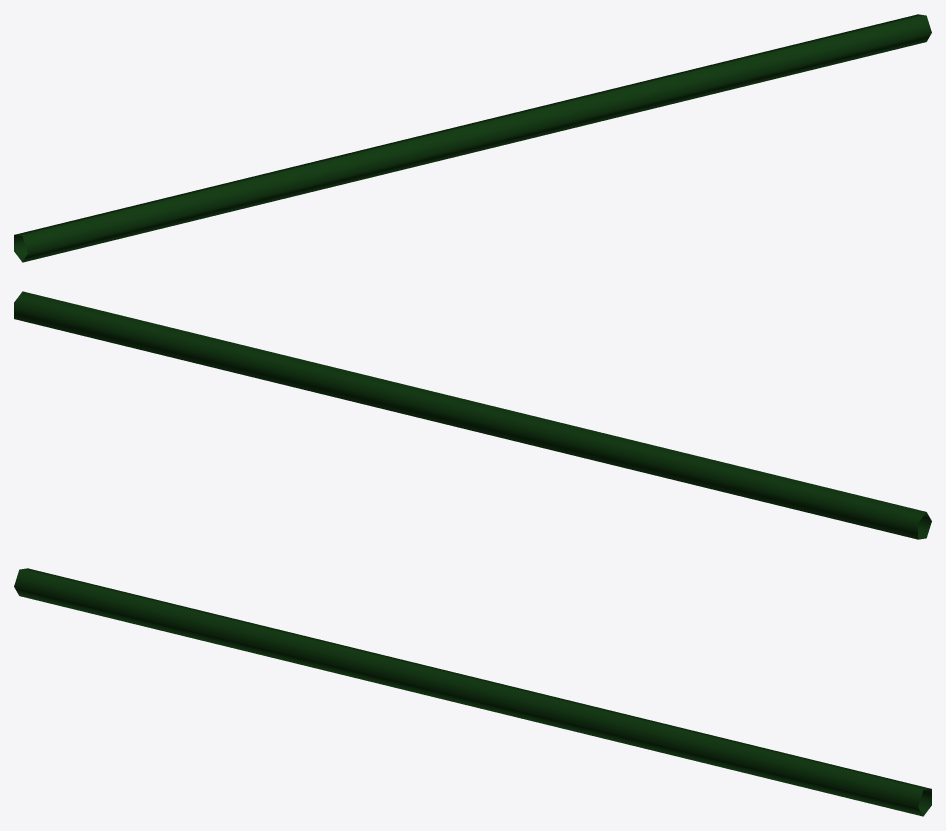
File: original-30.obj
3 views of the same model, one above another, from view 1: azimuth 30°, elevation 25°; view 2: azimuth 150°, elevation 25°; view 3: azimuth 330°, elevation 25° (orthographic).
Visible parts, largest first — view 1: BP2a_2_1/BP2a_2/mesh20/mesh20-geometry#mesh20-geometry; view 2: BP2a_2_1/BP2a_2/mesh20/mesh20-geometry#mesh20-geometry; view 3: BP2a_2_1/BP2a_2/mesh20/mesh20-geometry#mesh20-geometry.
Boxes of the visible parts, x1,y1,x2,y2 form: BP2a_2_1/BP2a_2/mesh20/mesh20-geometry#mesh20-geometry: (14,14,931,262); BP2a_2_1/BP2a_2/mesh20/mesh20-geometry#mesh20-geometry: (14,291,931,539); BP2a_2_1/BP2a_2/mesh20/mesh20-geometry#mesh20-geometry: (14,568,931,816).
Bounding box in the file's own units: 0.8328 × 0.0233 × 0.0222.
